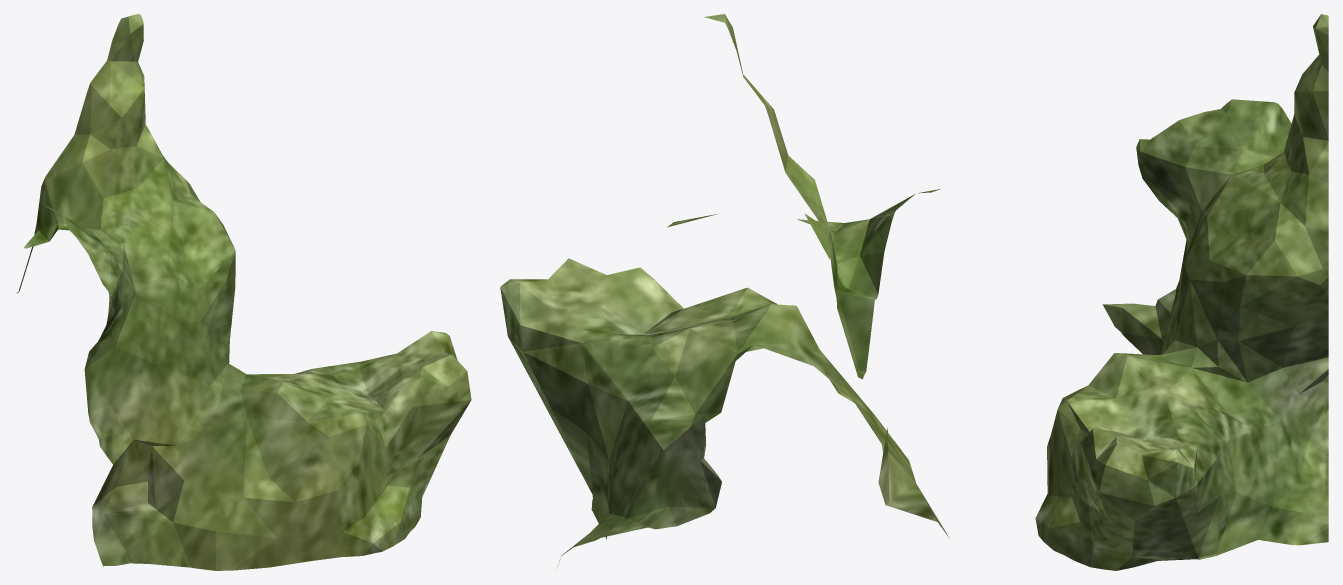
3 renders of one model, left to right at view 1: azimuth 30°, elevation 25°; view 2: azimuth 150°, elevation 25°; view 3: azimuth 270°, elevation 25°, orthographic. The views are drawn at different scales.
Bounding box in the file's own units: 1.5 × 1.86 × 1.06.
Materials: 1 (1 with a texture image).
